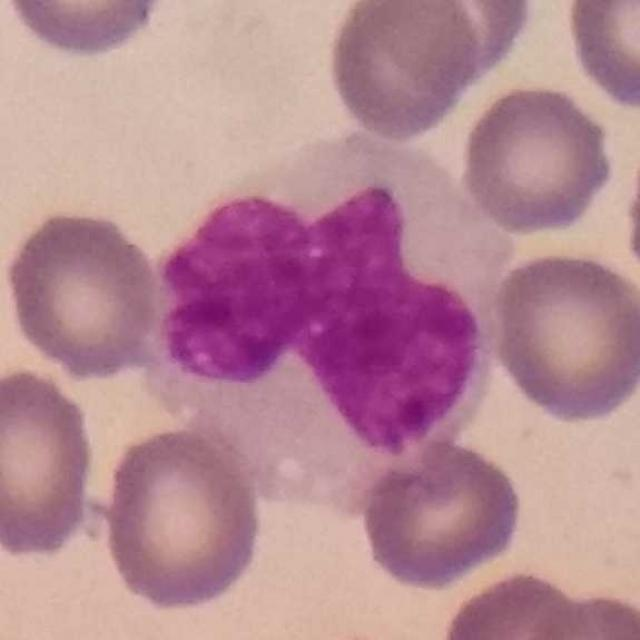mono: (142, 124, 514, 509)
